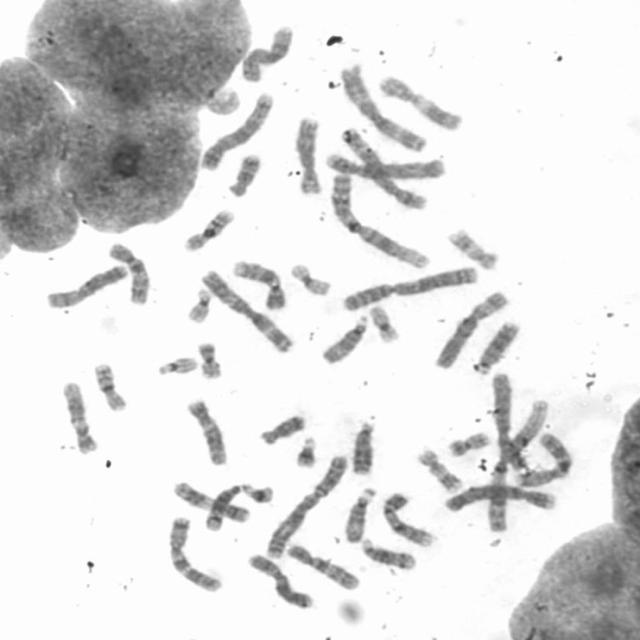A1: (329, 174, 430, 270), (485, 396, 551, 534)
A2: (265, 454, 348, 560), (342, 267, 478, 311)
A3: (200, 270, 294, 353), (340, 65, 428, 151)
B4: (324, 150, 447, 181), (443, 484, 554, 512)
B5: (338, 126, 428, 210), (200, 91, 274, 173)
C10: (287, 544, 361, 592), (106, 241, 152, 306)
C11: (377, 76, 464, 132), (172, 482, 250, 524)
C12: (59, 382, 100, 456), (187, 398, 228, 466)
C6: (434, 290, 510, 370), (489, 372, 528, 470)
C7: (166, 516, 224, 594), (517, 432, 573, 487)
C8: (241, 24, 293, 84), (295, 116, 323, 196)
C9: (381, 491, 436, 548), (230, 259, 286, 311)
D13: (472, 322, 522, 374), (349, 415, 377, 475)
D14: (205, 482, 246, 530), (359, 540, 416, 570)
D15: (320, 312, 368, 364), (344, 486, 378, 544)
E16: (184, 209, 237, 252), (92, 363, 128, 412)
E17: (448, 227, 500, 272), (415, 449, 464, 492)
E18: (226, 152, 264, 198), (260, 414, 306, 446)
F19: (289, 262, 332, 298), (366, 306, 401, 344)
F20: (446, 431, 492, 458), (194, 341, 224, 381)
G21: (292, 436, 320, 468), (242, 480, 275, 506)
G22: (184, 288, 212, 323), (156, 356, 199, 376)
X: (247, 552, 314, 610), (46, 264, 128, 310)
